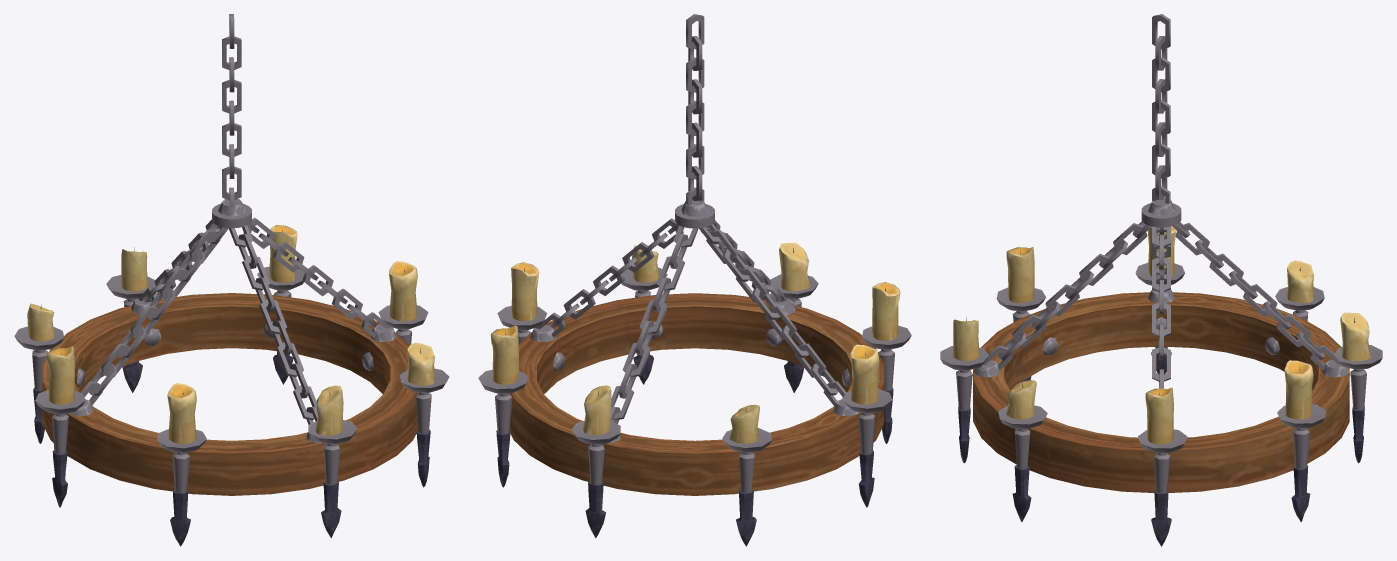
File: Chandelier.glb
3 renders of one model, left to right at view 1: azimuth 30°, elevation 25°; view 2: azimuth 150°, elevation 25°; view 3: azimuth 270°, elevation 25°, orthographic.
Parts seen in each view (by area): view 1: Chandelier; view 2: Chandelier; view 3: Chandelier.
Boxes of the visible parts, <box> form: Chandelier: <box>14,14,449,546</box>; Chandelier: <box>478,14,911,546</box>; Chandelier: <box>940,14,1382,546</box>.
Size of the model in its own units: 1.3 by 1.46 by 1.3.
Materials: 3 (3 with a texture image).
